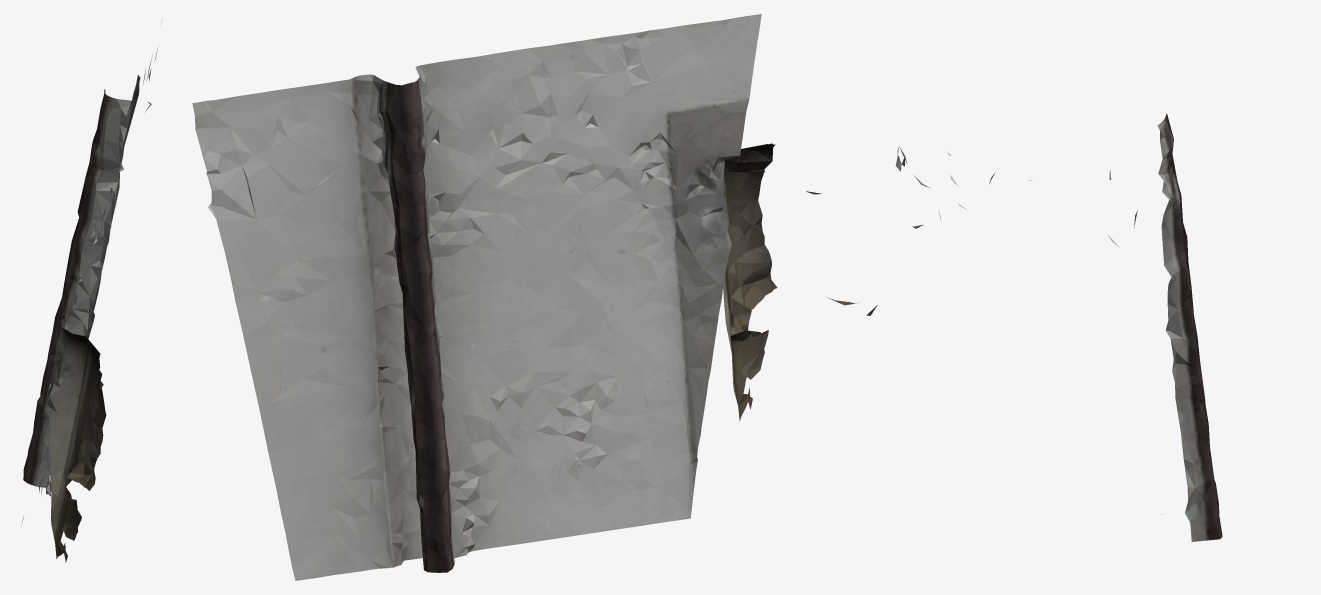
3 views of the same model, side by side, from view 1: azimuth 30°, elevation 25°; view 2: azimuth 150°, elevation 25°; view 3: azimuth 270°, elevation 25° (orthographic). The views are drawn at different scales.
Bounding box in the file's own units: 1.3 × 1.67 × 1.67.
3 materials, 3 textured.
